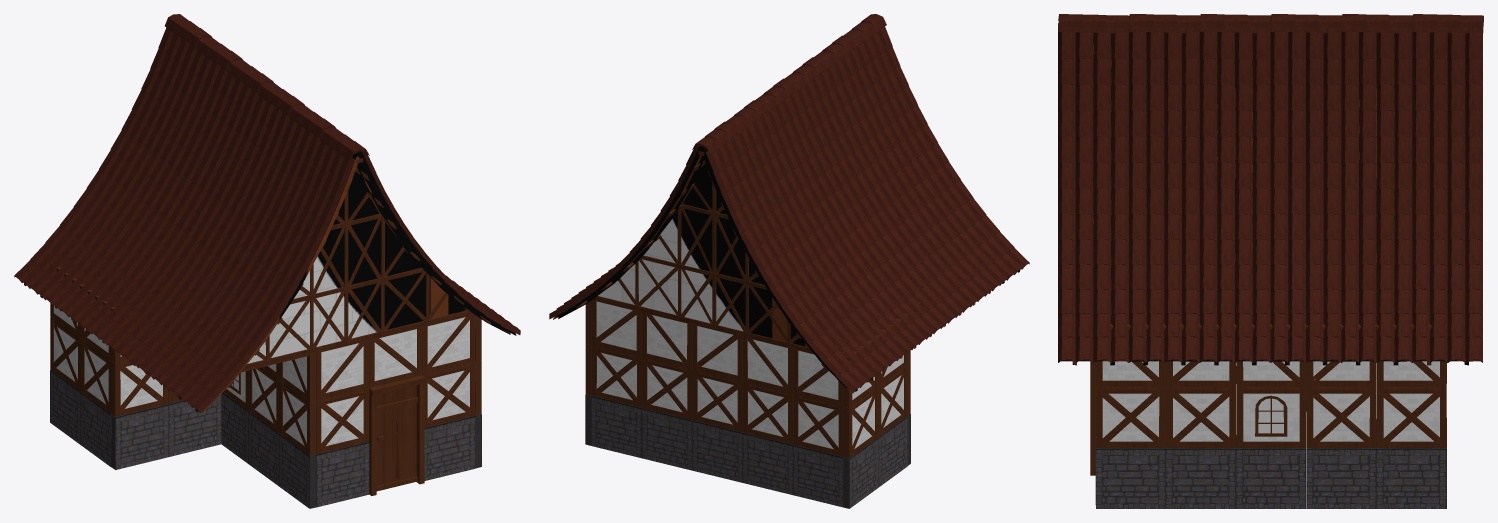
Rendered from House2_LOD2.fbx.
The picture shows the model from 3 angles, left to right: view 1: azimuth 30°, elevation 25°; view 2: azimuth 150°, elevation 25°; view 3: azimuth 270°, elevation 25°; orthographic projection. The views are drawn at different scales.
Parts seen in each view (by area): view 1: House2_LOD2; view 2: House2_LOD2; view 3: House2_LOD2.
Boxes of the visible parts, x1,y1,x2,y2 form: House2_LOD2: (14,14,520,508); House2_LOD2: (549,14,1029,508); House2_LOD2: (1058,14,1483,508).
Bounding box in the file's own units: 1291 × 1385 × 1285.
